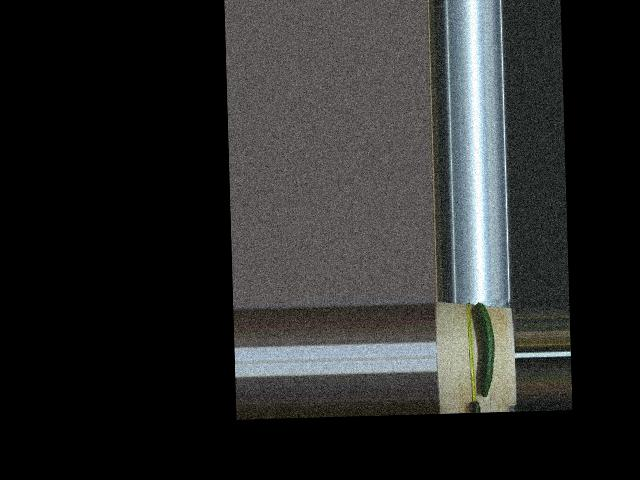cucumber: (474, 302, 496, 397)
